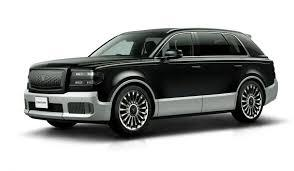toyota: (23, 28, 278, 136), (36, 72, 49, 84)
